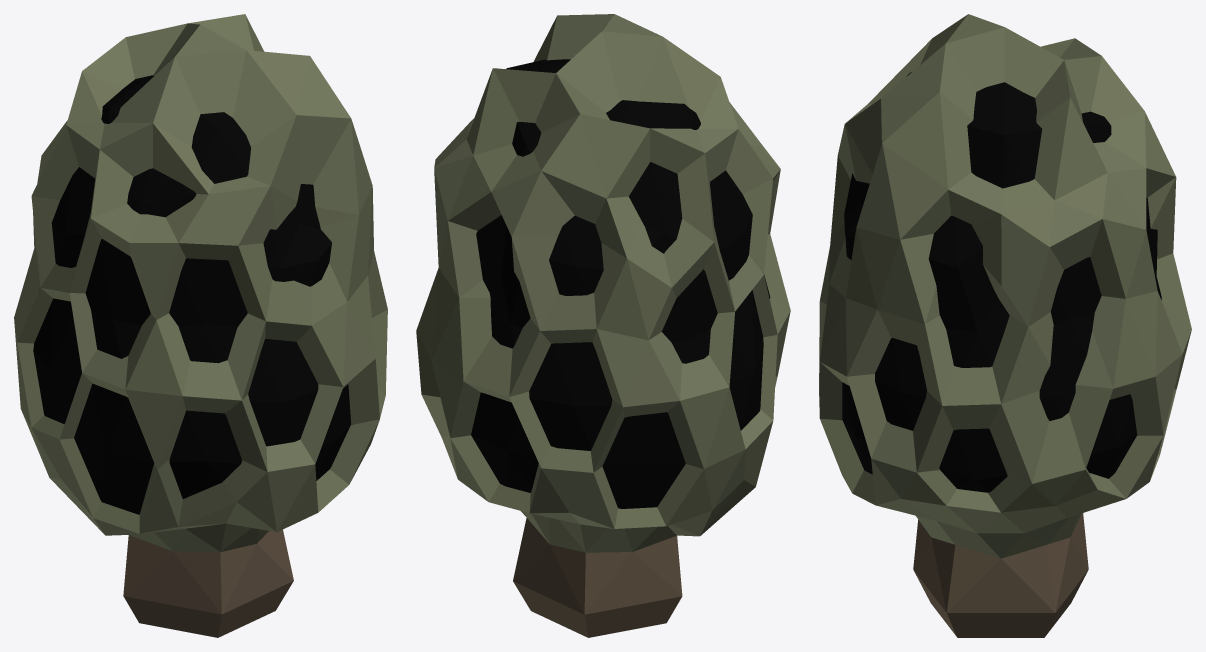
File: mushroom10.fbx
3 views of the same model, side by side, from view 1: azimuth 30°, elevation 25°; view 2: azimuth 150°, elevation 25°; view 3: azimuth 270°, elevation 25° (orthographic).
Visible parts, largest first — view 1: Icosphere; view 2: Icosphere; view 3: Icosphere.
Boxes of the visible parts, x1,y1,x2,y2 form: Icosphere: (14,14,387,637); Icosphere: (416,14,790,637); Icosphere: (819,14,1191,637).
Bounding box in the file's own units: 266 × 467 × 266.
